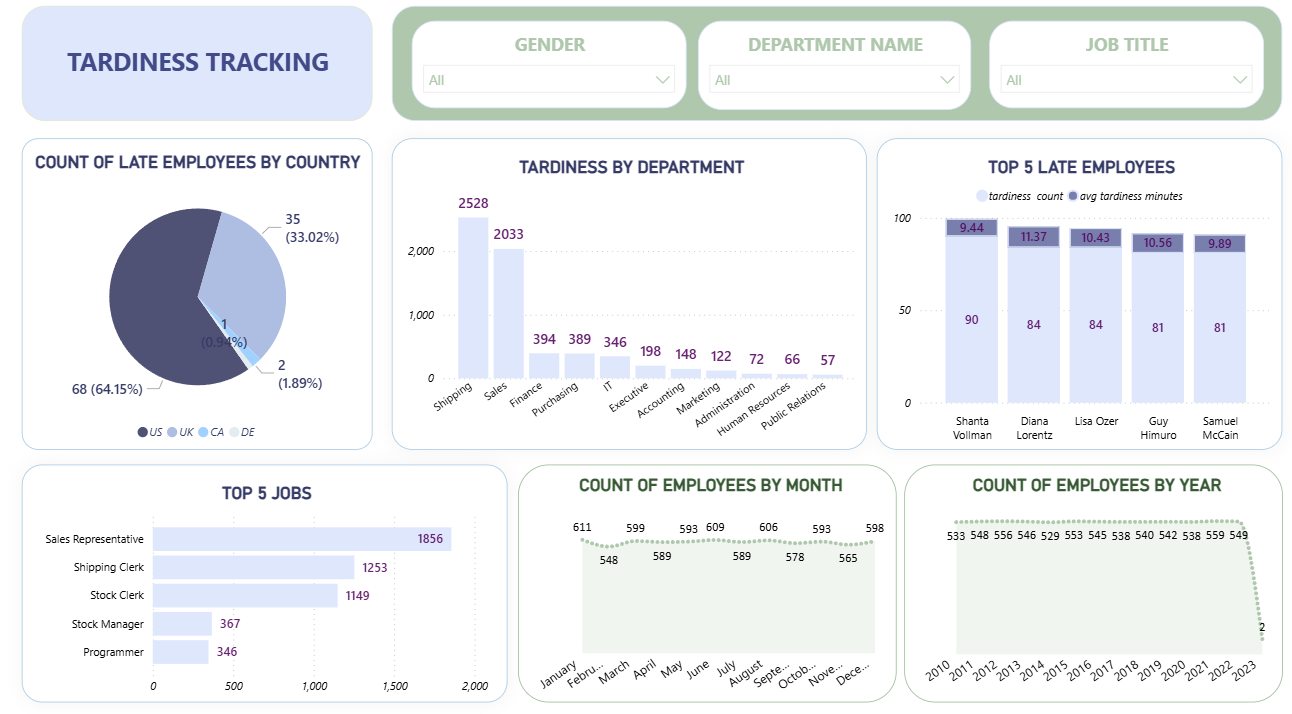

The page's visual inventory and layout, read from the dashboard file:
{"tool":"powerbi","page":{"name":"tardiness tracking","canvas":[1280,720],"ordinal":2},"visuals":[{"type":"textbox","box":[32.9,18.6,342.9,112.9],"z":0},{"type":"columnChart","title":"TARDINESS BY DEPARTMENT","fields":{"Category":["departments.DEPARTMENT_NAME"],"Y":["Count(tardinees_tracking.TARDINESS_DATE)"]},"box":[395.3,147.7,465.1,304.7],"z":1000},{"type":"columnChart","title":"TOP 5 LATE EMPLOYEES","fields":{"Category":["employees.FULL_NAME"],"Y":["CountNonNull(tardinees_tracking.TARDINESS_DATE)","Avg(tardinees_tracking.MINUTES_LATE)"]},"box":[869.8,147.7,396.5,304.7],"z":2000},{"type":"areaChart","title":"COUNT OF EMPLOYEES BY YEAR","fields":{"Category":["tardinees_tracking.TARDINESS_DATE.Variation.Date Hierarchy.Year"],"Y":["CountNonNull(tardinees_tracking.EMPLOYEE_ID)"]},"box":[896.2,467.5,370,232.5],"z":3000},{"type":"pieChart","title":"COUNT OF LATE EMPLOYEES BY COUNTRY","fields":{"Category":["locations.COUNTRY_ID"],"Y":["Count(tardinees_tracking.EMPLOYEE_ID)"]},"box":[32.6,147.7,343,304.7],"z":4000},{"type":"textbox","box":[395.3,18.6,870.9,112.8],"z":5000},{"type":"slicer","title":"DEPARTMENT NAME","fields":{"Values":["departments.DEPARTMENT_NAME"]},"box":[694.3,32.9,267.1,87.1],"z":6000},{"type":"slicer","title":"GENDER","fields":{"Values":["employees.Genders"]},"box":[414.3,32.9,268.6,85.7],"z":7000},{"type":"slicer","title":"JOB TITLE","fields":{"Values":["jobs.JOB_TITLE"]},"box":[980,32.9,268.6,85.7],"z":8000},{"type":"barChart","title":"TOP 5 JOBS","fields":{"Category":["jobs.JOB_TITLE"],"Y":["Count(tardinees_tracking.TARDINESS_DATE)"]},"box":[32.5,467.5,475,232.5],"z":9000},{"type":"areaChart","title":"COUNT OF EMPLOYEES BY MONTH","fields":{"Category":["tardinees_tracking.TARDINESS_DATE.Variation.Date Hierarchy.Month"],"Y":["CountNonNull(tardinees_tracking.EMPLOYEE_ID)"]},"box":[518.8,467.5,370,232.5],"z":10000}]}

Visuals, with their boxes in screenshot pixels (x1, y1, x2, y2), scaled from the page's 1280x720 canvas onto the 1292x714 screenshot:
textbox: region(33, 18, 379, 130)
"TARDINESS BY DEPARTMENT" columnChart: region(399, 146, 868, 449)
"TOP 5 LATE EMPLOYEES" columnChart: region(878, 146, 1278, 449)
"COUNT OF EMPLOYEES BY YEAR" areaChart: region(905, 464, 1278, 694)
"COUNT OF LATE EMPLOYEES BY COUNTRY" pieChart: region(33, 146, 379, 449)
textbox: region(399, 18, 1278, 130)
"DEPARTMENT NAME" slicer: region(701, 33, 970, 119)
"GENDER" slicer: region(418, 33, 689, 118)
"JOB TITLE" slicer: region(989, 33, 1260, 118)
"TOP 5 JOBS" barChart: region(33, 464, 512, 694)
"COUNT OF EMPLOYEES BY MONTH" areaChart: region(524, 464, 897, 694)
